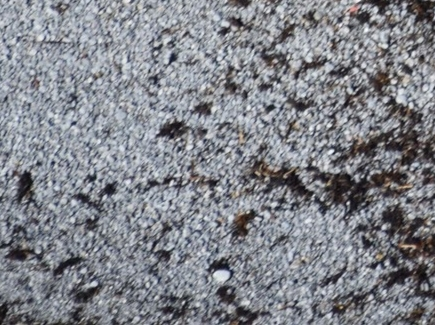white_in_green: (198, 254, 247, 294)
